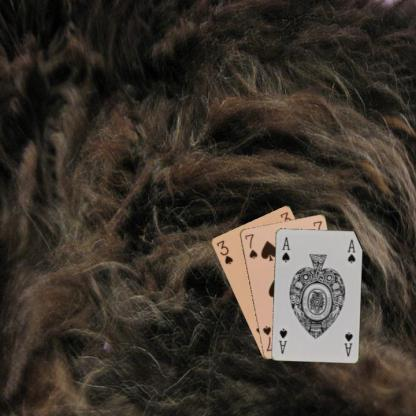3s: (213, 237, 234, 266)
7s: (242, 231, 258, 260)
As: (279, 234, 291, 264), (342, 329, 353, 357)
